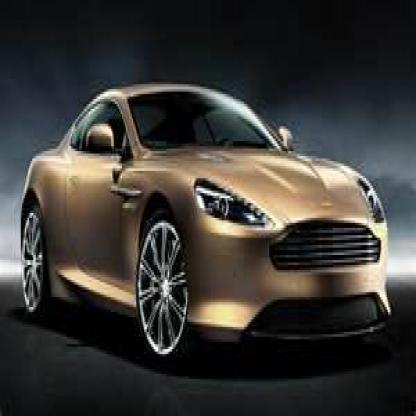Vehicle: (21, 77, 396, 366)
